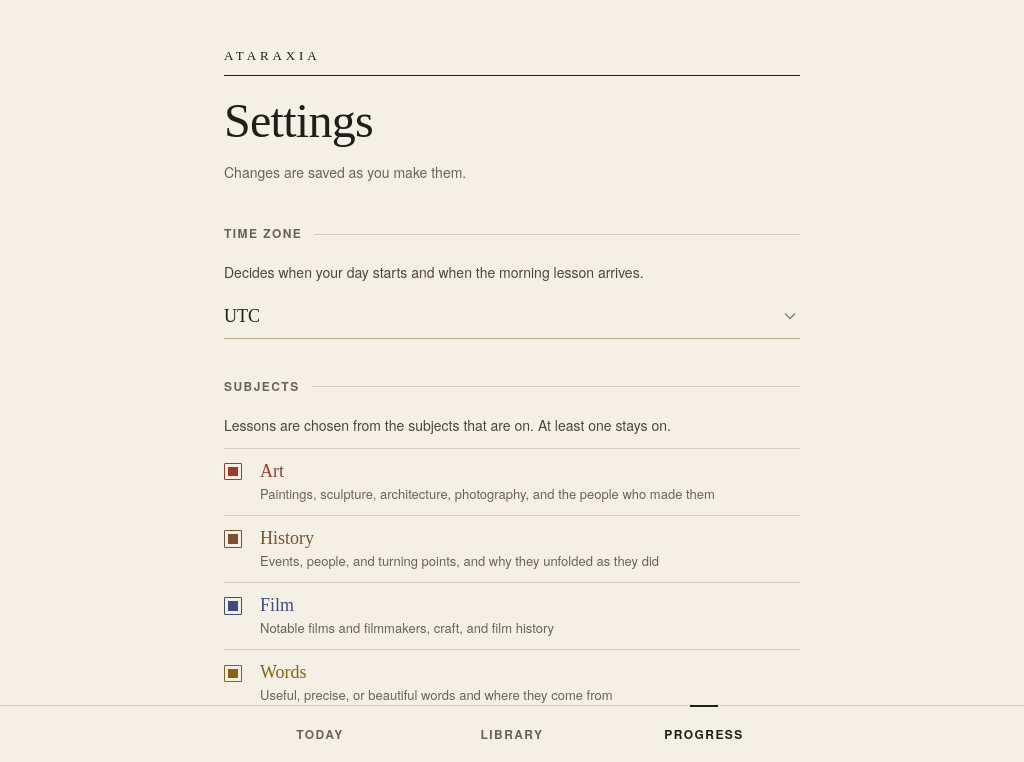
Test: Settings › saves each change and keeps at least one subject
The image size is (1024, 762).
Click the checkbox labelled "Art" at x=233, y=472, box [224,463,242,480]
(page scrolled)
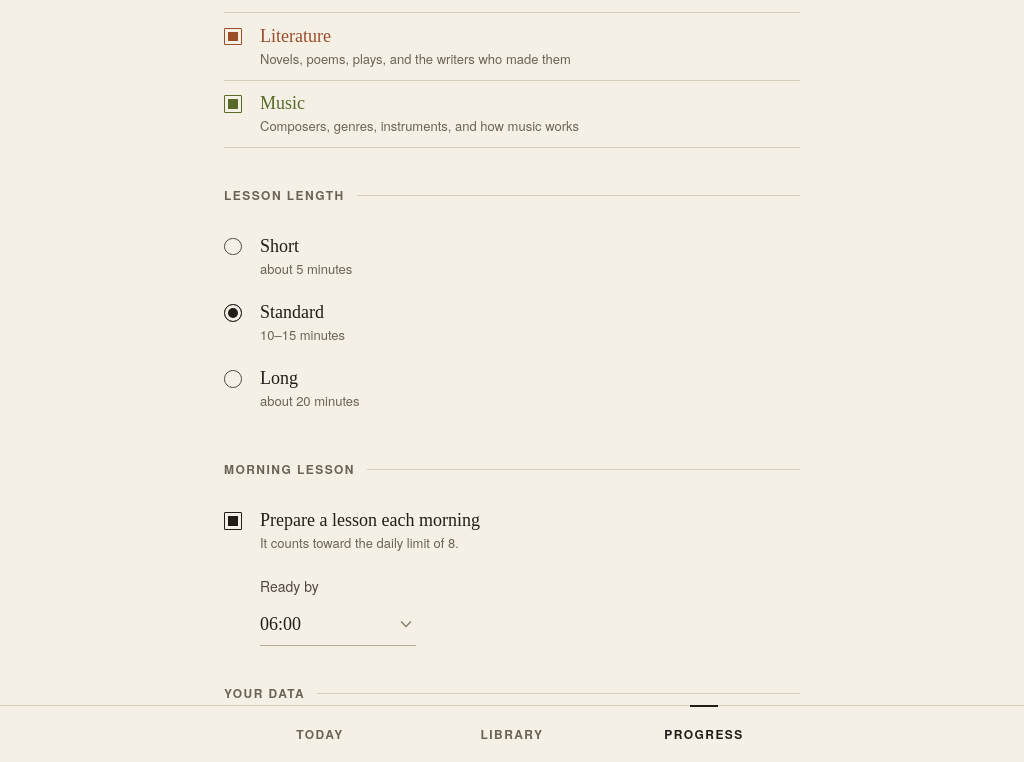
Click the radio button labelled "Long about 20 minutes" at x=233, y=379, box [224,370,242,388]
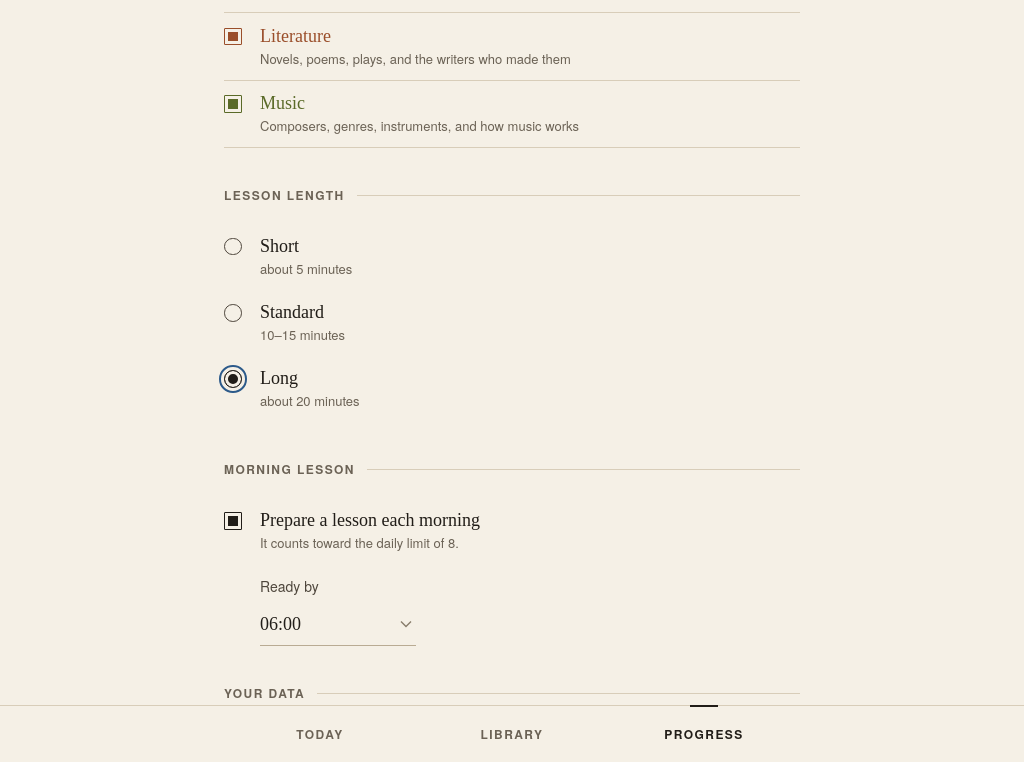
Select "07:00" in the dropdown labelled "Ready by" at x=338, y=624, box [260,602,416,646]
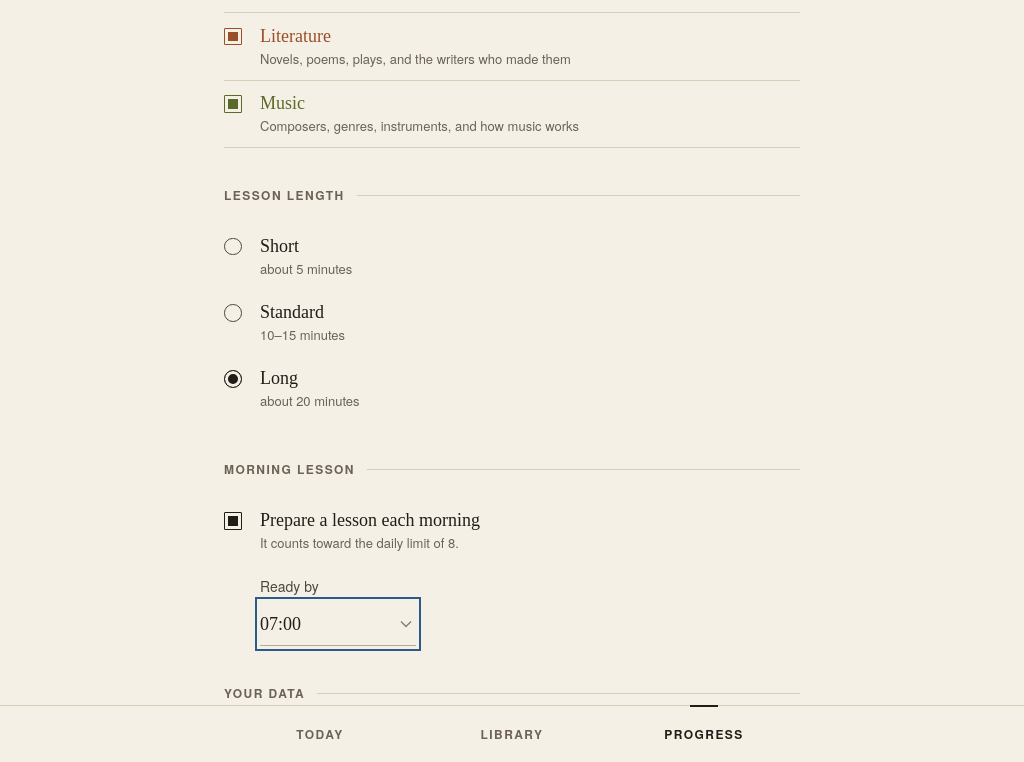
Click the checkbox labelled "Prepare a lesson each morning" at x=233, y=521, box [224,512,242,530]
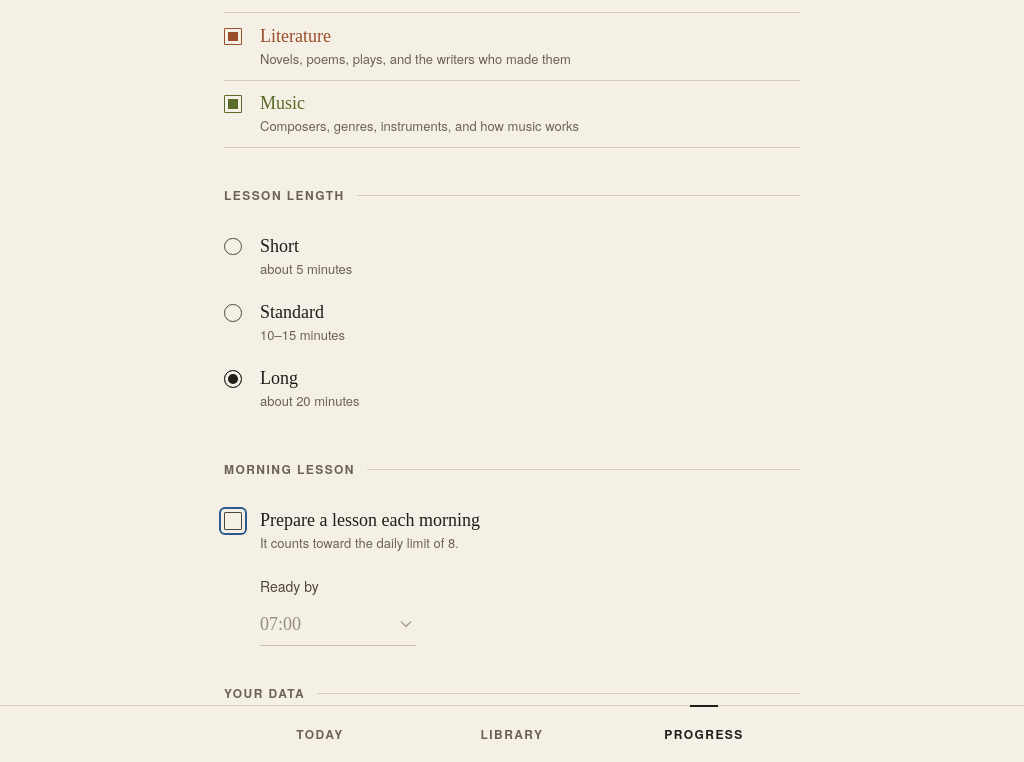
Result: the dropdown labelled "Ready by" is disabled at [260,602,416,646]
